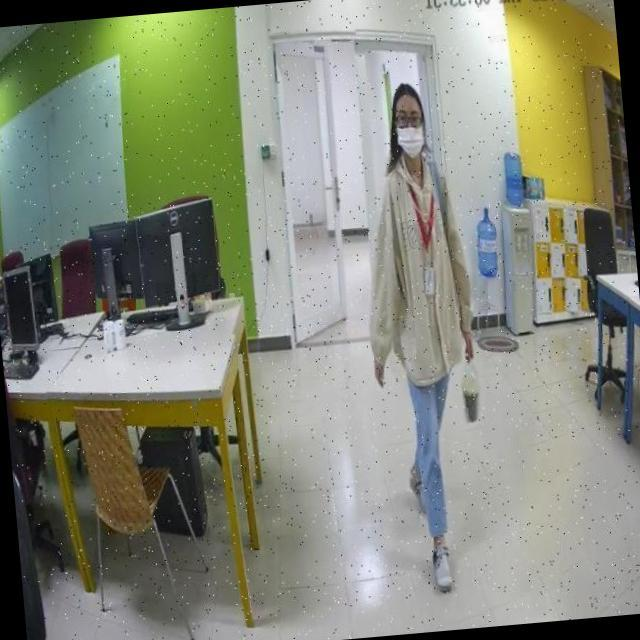person: (358, 82, 489, 596)
